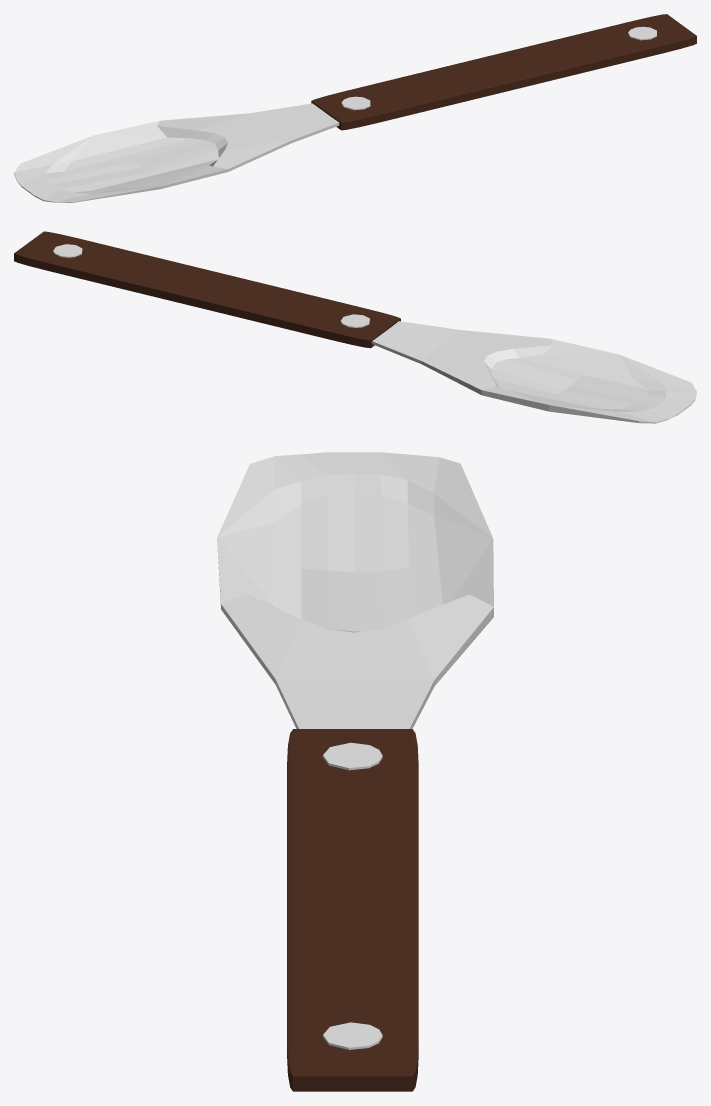
Rendered from Kitchen_SmallProps_Spoon.fbx.
3 views of the same model, one above another, from view 1: azimuth 30°, elevation 25°; view 2: azimuth 150°, elevation 25°; view 3: azimuth 270°, elevation 25° (orthographic). The views are drawn at different scales.
Parts seen in each view (by area): view 1: Spoon, Handle, Mutter.001, Mutter2.001; view 2: Spoon, Handle, Mutter.001, Mutter2.001; view 3: Spoon, Handle, Mutter2.001, Mutter.001.
Part boxes in pixels (<box>): Spoon: <box>14,103,339,202</box>; Handle: <box>311,14,696,130</box>; Mutter.001: <box>341,96,370,110</box>; Mutter2.001: <box>628,26,656,40</box>; Spoon: <box>372,321,696,423</box>; Handle: <box>14,231,400,348</box>; Mutter.001: <box>340,314,369,327</box>; Mutter2.001: <box>53,244,82,257</box>; Spoon: <box>217,452,493,728</box>; Handle: <box>287,729,418,1091</box>; Mutter2.001: <box>323,1022,382,1049</box>; Mutter.001: <box>323,742,382,770</box>.
Size of the model in its own units: 25.55 by 0.5556 by 4.69.
